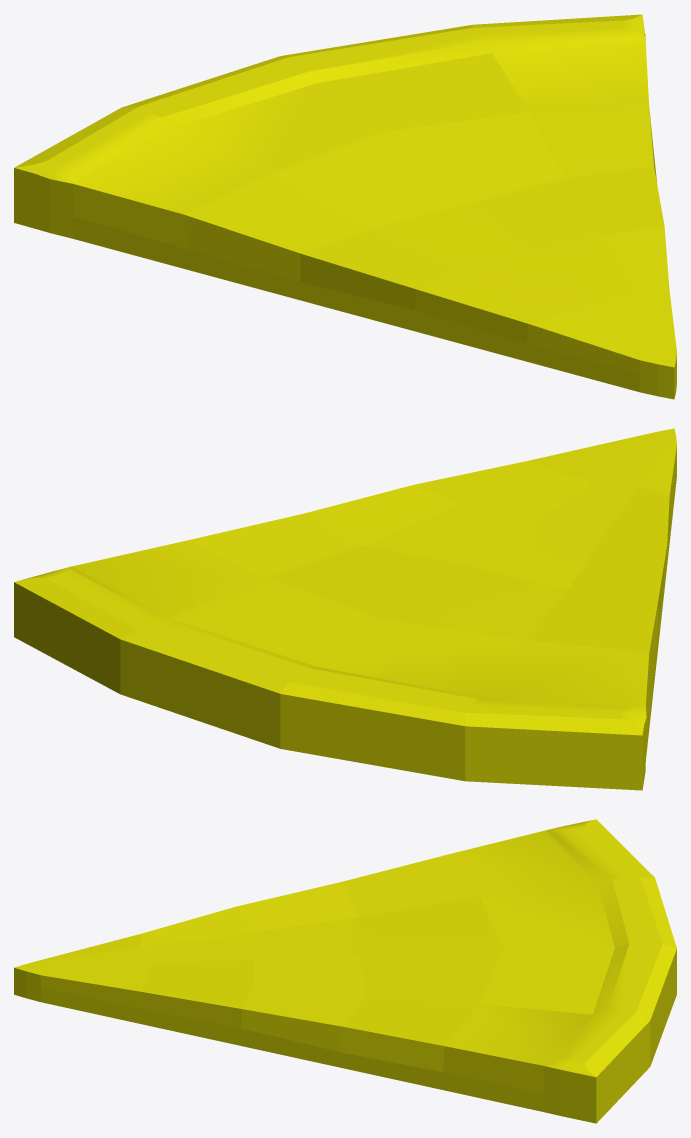
3 views of the same model, one above another, from view 1: azimuth 30°, elevation 25°; view 2: azimuth 150°, elevation 25°; view 3: azimuth 270°, elevation 25° (orthographic). The views are drawn at different scales.
Parts seen in each view (by area): view 1: slicen; view 2: slicen; view 3: slicen.
Boxes of the visible parts, x1,y1,x2,y2 form: slicen: [14, 14, 676, 399]; slicen: [14, 428, 676, 790]; slicen: [14, 819, 676, 1123].
Size of the model in its own units: 107 by 9.81 by 116.
